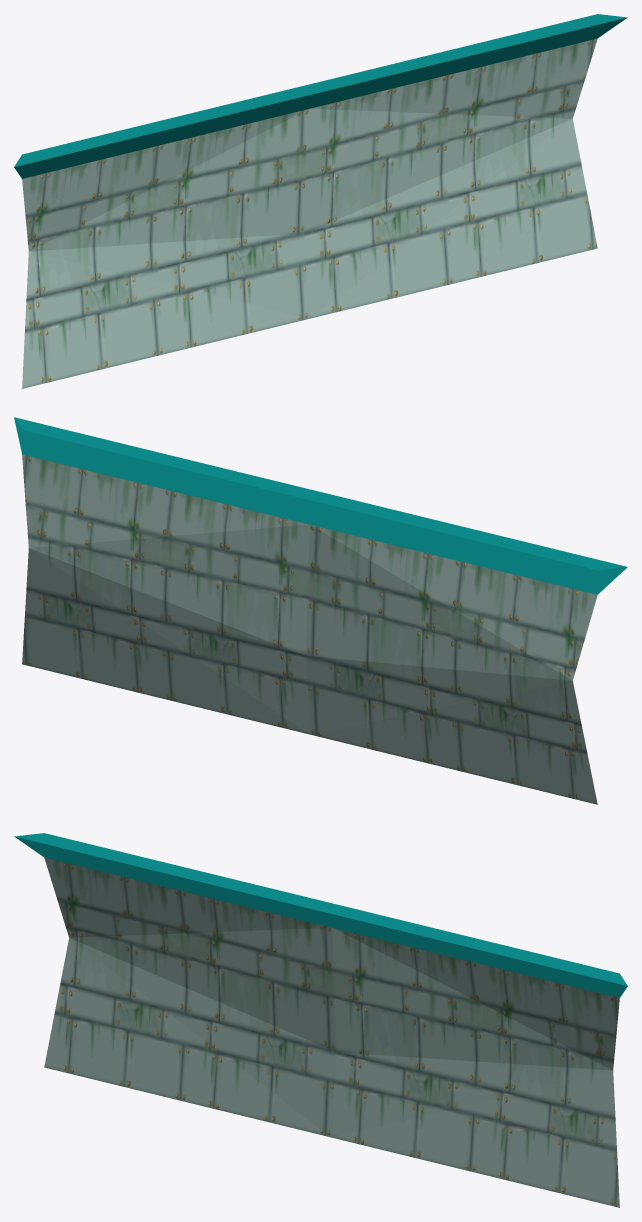
Rendered from W_A1_xxxx [Türkis]_1920.glb.
The picture shows the model from 3 angles, top to bottom: view 1: azimuth 30°, elevation 25°; view 2: azimuth 150°, elevation 25°; view 3: azimuth 330°, elevation 25°; orthographic projection.
Visible parts, largest first — view 1: polySurfaceShape787, polySurfaceShape1065; view 2: polySurfaceShape787, polySurfaceShape1065; view 3: polySurfaceShape787, polySurfaceShape1065.
Boxes of the visible parts, left/top/right/bottom form: polySurfaceShape787: left=22, top=38, right=597, bottom=388; polySurfaceShape1065: left=14, top=14, right=627, bottom=178; polySurfaceShape787: left=22, top=454, right=597, bottom=804; polySurfaceShape1065: left=14, top=417, right=627, bottom=594; polySurfaceShape787: left=44, top=857, right=619, bottom=1207; polySurfaceShape1065: left=14, top=833, right=627, bottom=997.
Bounding box in the file's own units: 1.07 × 0.3891 × 0.0607.
2 materials, 1 textured.
